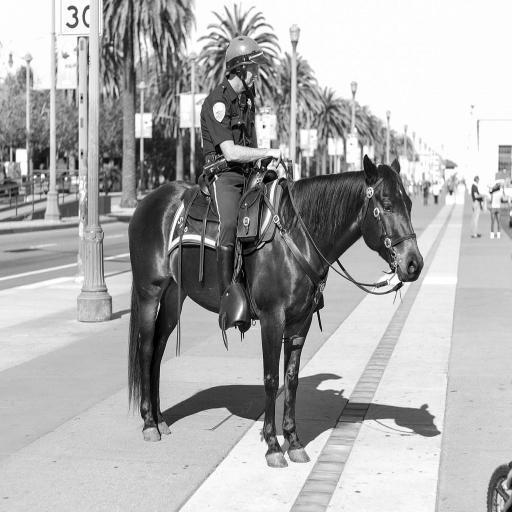horse: (125, 152, 424, 469)
